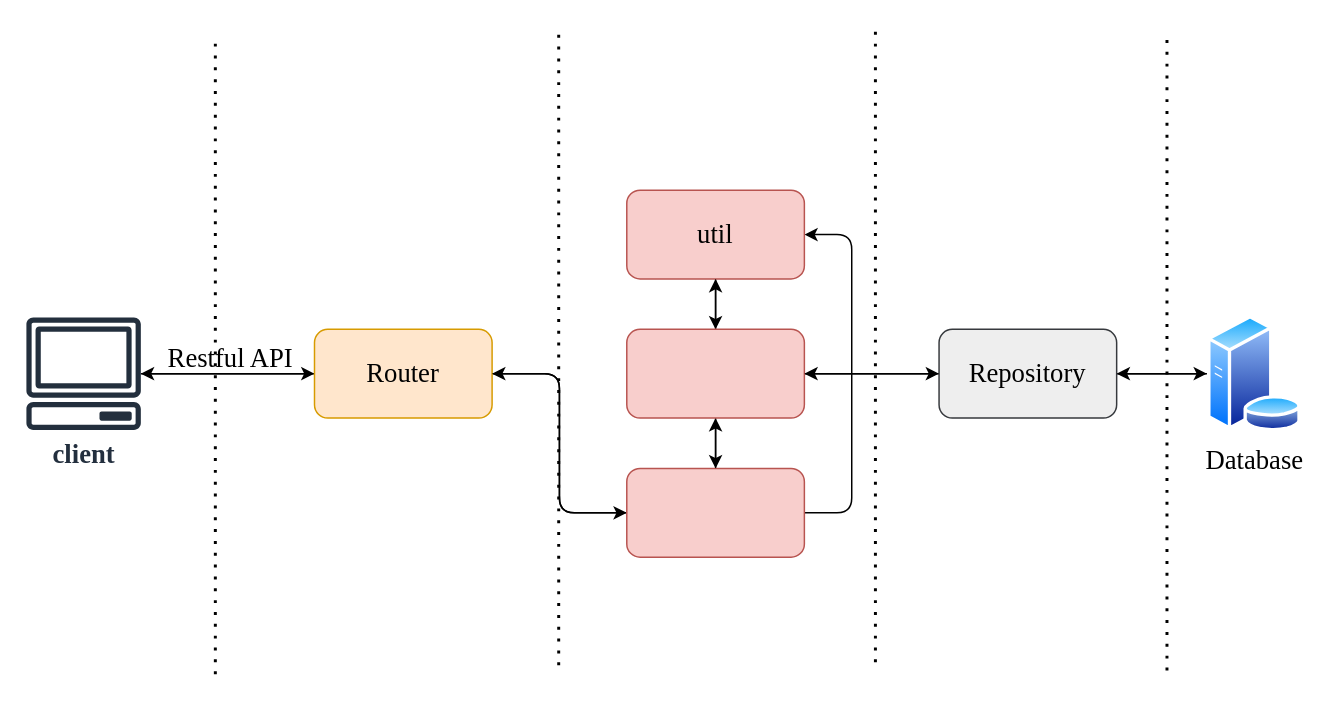
Some shapes in this 1329 by 702 pixel diagram are drawn without their labels. Each missing label, with the centre of its shape:
"Controller" goes at (714,512).
"entity" goes at (714,373).
